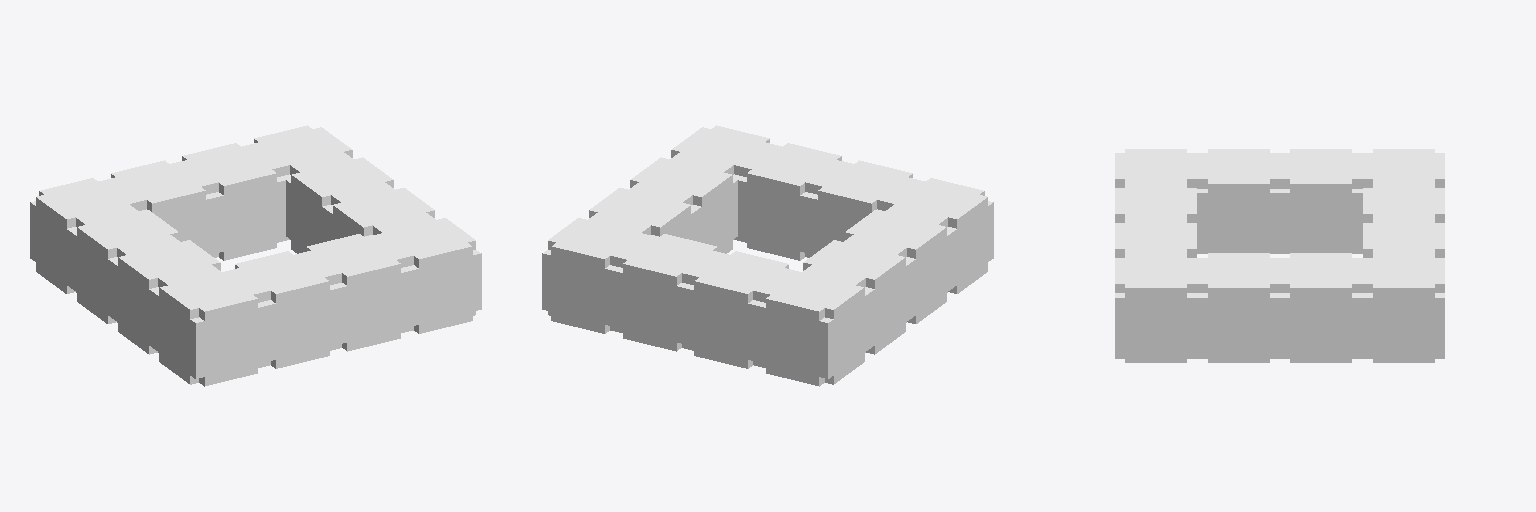
The model's file is tetris_o_wall.obj.
The picture shows the model from 3 angles: view 1: azimuth 30°, elevation 25°; view 2: azimuth 150°, elevation 25°; view 3: azimuth 270°, elevation 25°; orthographic projection.
Visible parts, largest first — view 1: object 1; view 2: object 1; view 3: object 1.
Boxes of the visible parts, x1,y1,x2,y2 form: object 1: [30, 125, 481, 386]; object 1: [542, 125, 993, 386]; object 1: [1115, 149, 1444, 362].
Size of the model in its own units: 3.2 by 0.8 by 3.2.